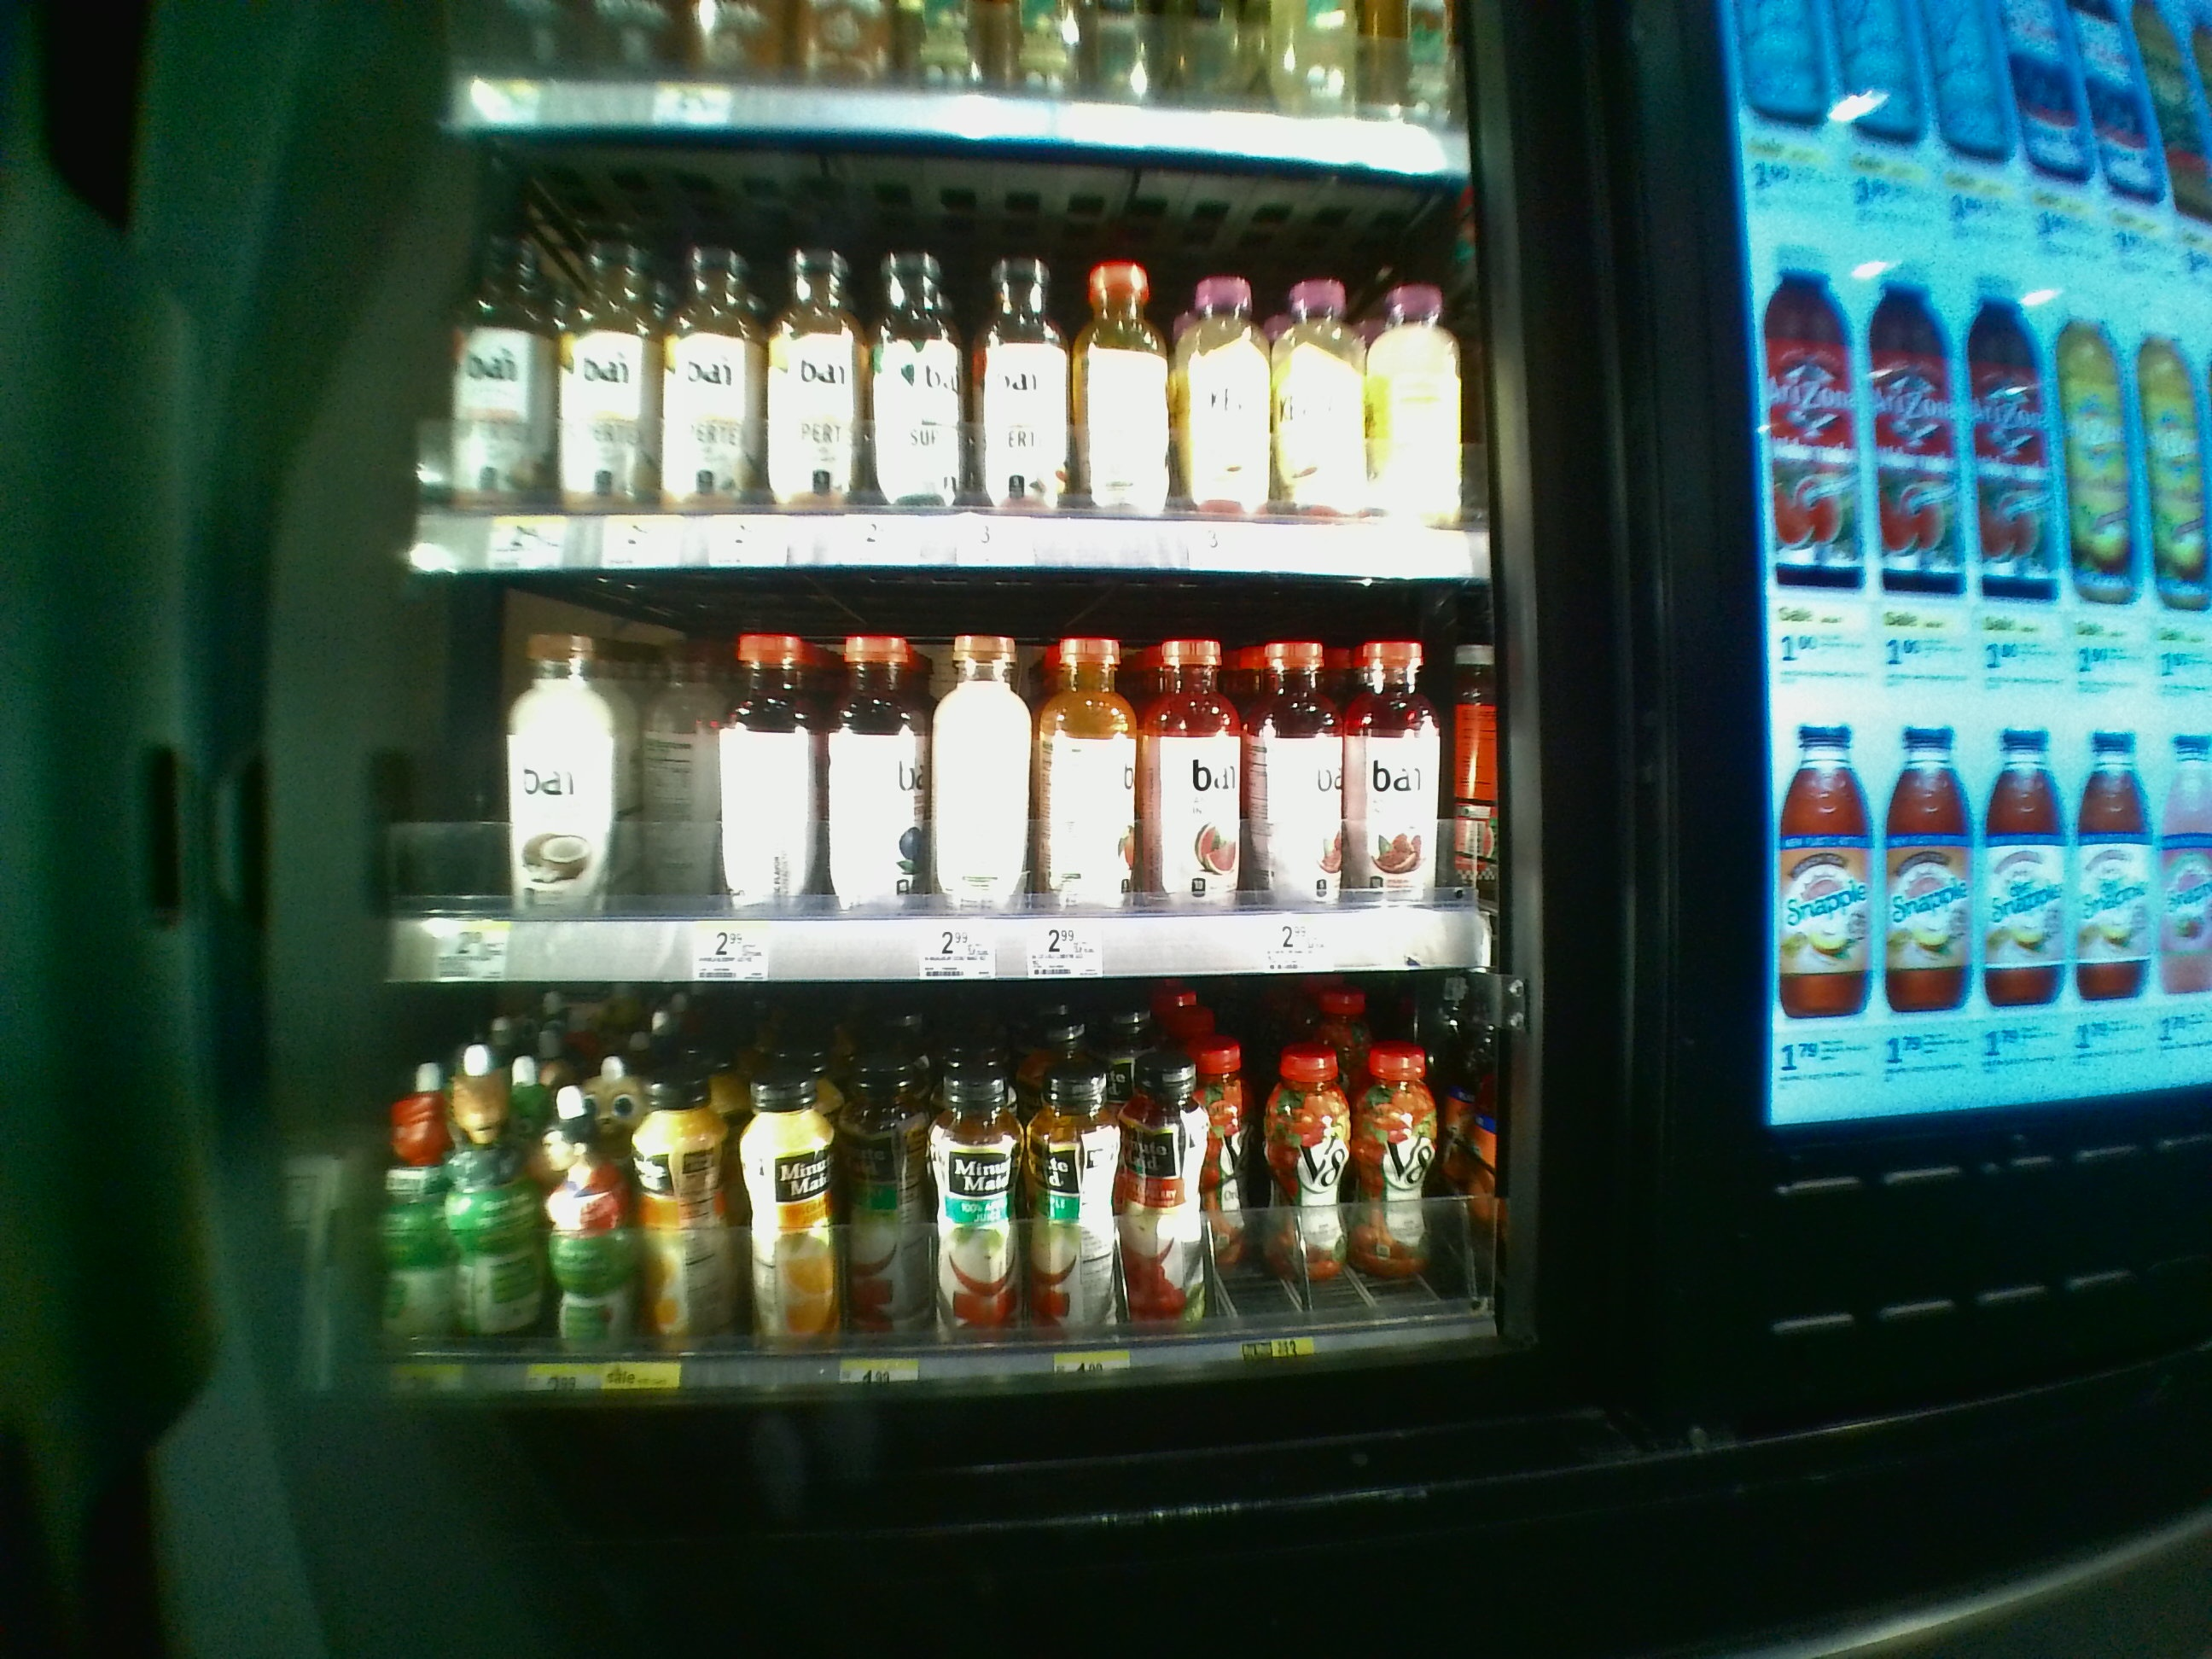shelf: (374, 988, 1510, 1427), (409, 131, 1479, 573), (380, 582, 1498, 978)
